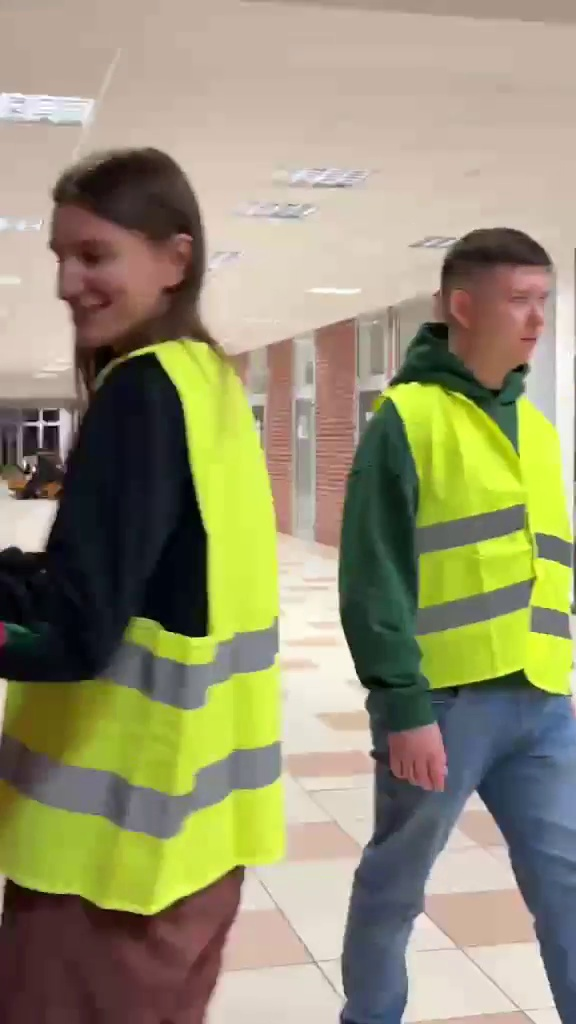vest: (7, 143, 286, 989), (347, 220, 576, 992)
